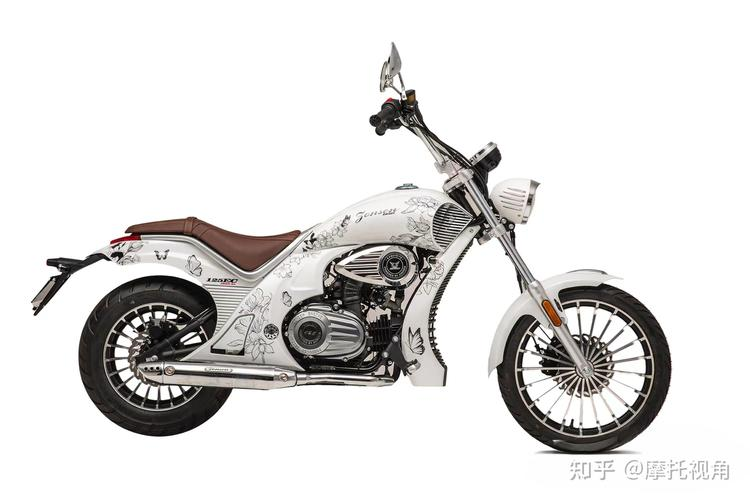摩托车: (14, 28, 724, 484)
